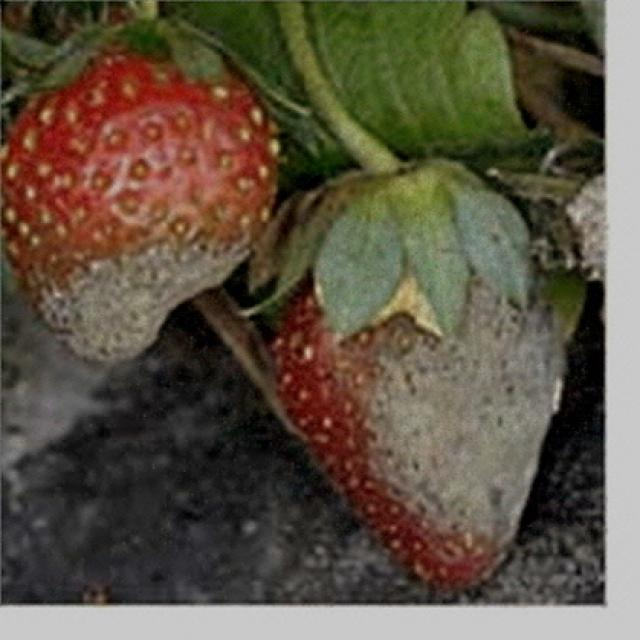Gray Mold: (279, 263, 570, 591), (2, 56, 279, 366)
